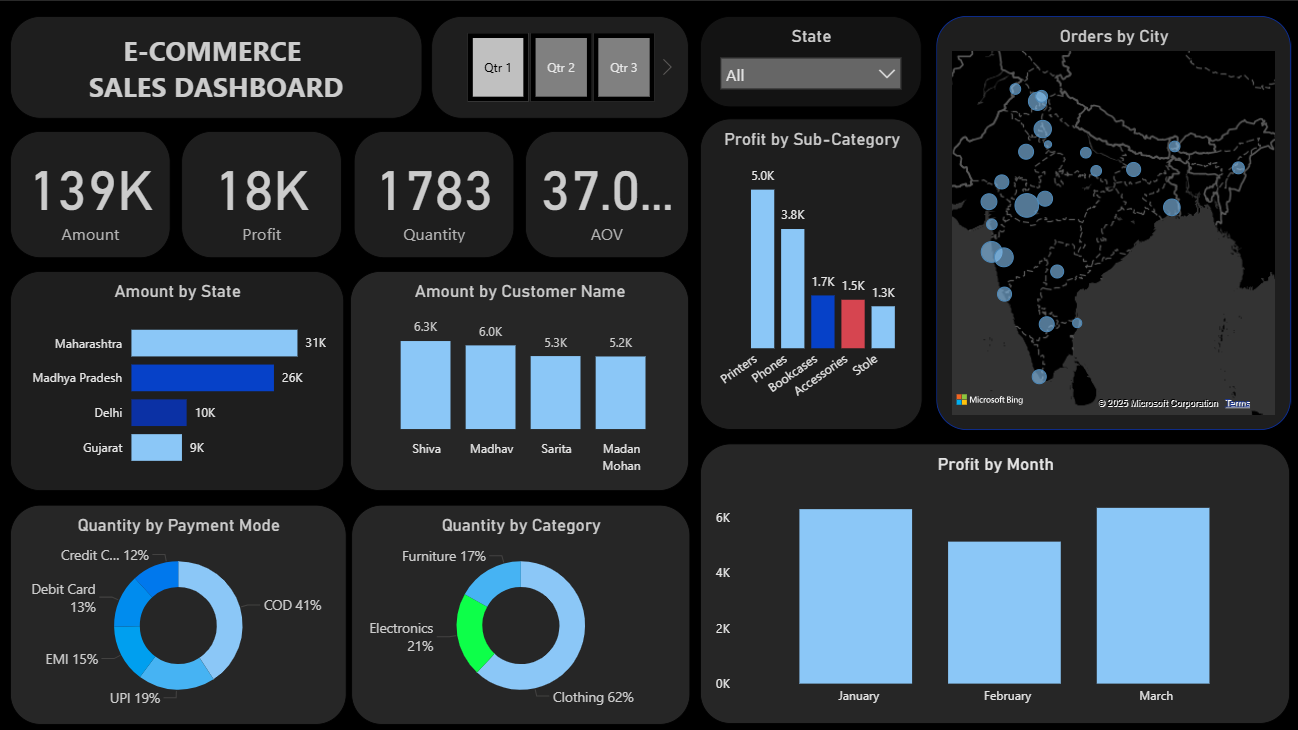

The dashboard page shown, as its layout file describes it:
{"tool":"powerbi","page":{"name":"Page 1","canvas":[1280,720],"ordinal":0},"visuals":[{"type":"textbox","box":[9.9,14.2,404.7,100.8],"z":0},{"type":"columnChart","fields":{"Y":["Details.Profit"],"Category":["Orders.Order Date.Variation.Date Hierarchy.Month"]},"box":[687.3,434.6,579.4,275.5],"z":1000},{"type":"columnChart","fields":{"Category":["Details.Sub-Category"],"Y":["Details.Profit"]},"box":[687.3,115,218.7,305.3],"z":2000},{"type":"donutChart","fields":{"Category":["Details.Category"],"Y":["Details.Quantity"]},"box":[344.8,494.5,332.5,216],"z":3000},{"type":"donutChart","fields":{"Y":["Details.Quantity"],"Category":["Details.PaymentMode"]},"box":[9.8,494.5,330.1,216],"z":4000},{"type":"card","fields":{"Values":["Details.Amount"]},"box":[9.9,127.8,157.6,125],"z":5000},{"type":"card","fields":{"Values":["Details.Profit"]},"box":[178.5,127.8,157.6,125],"z":6000},{"type":"card","fields":{"Values":["Details.Quantity"]},"box":[347,127.8,157.6,125],"z":7000},{"type":"card","fields":{"Values":["Details.AOV"]},"box":[515.5,127.8,160.5,125],"z":8000},{"type":"barChart","fields":{"Category":["Orders.State"],"Y":["Details.Amount"]},"box":[9.8,265,327.6,216],"z":9000},{"type":"columnChart","fields":{"Category":["Orders.Customer Name"],"Y":["Details.Amount"]},"box":[343.6,265,332.5,216],"z":10000},{"type":"slicer","title":"Quarter","fields":{"Values":["Orders.Order Date.Variation.Date Hierarchy.Quarter"]},"box":[423.2,14.2,252.8,100.8],"z":11000},{"type":"slicer","title":"State","fields":{"Values":["Orders.State"]},"box":[687.3,14.2,217.3,89.5],"z":12000},{"type":"map","title":"Orders by City","fields":{"Category":["Orders.City"],"Size":["Orders.Order ID"]},"box":[918.8,14.2,347.9,406.2],"z":14000}]}

Visuals, with their boxes in screenshot pixels (x1, y1, x2, y2), scaled from the page's 1280x720 canvas onto the 1298x730 screenshot:
textbox: <bbox>10, 14, 420, 117</bbox>
columnChart - Details.Profit x Orders.Order Date.Variation.Date Hierarchy.Month: <bbox>697, 441, 1285, 720</bbox>
columnChart - Details.Sub-Category x Details.Profit: <bbox>697, 117, 919, 426</bbox>
donutChart - Details.Category x Details.Quantity: <bbox>350, 501, 687, 720</bbox>
donutChart - Details.Quantity x Details.PaymentMode: <bbox>10, 501, 345, 720</bbox>
card - Details.Amount: <bbox>10, 130, 170, 256</bbox>
card - Details.Profit: <bbox>181, 130, 341, 256</bbox>
card - Details.Quantity: <bbox>352, 130, 512, 256</bbox>
card - Details.AOV: <bbox>523, 130, 686, 256</bbox>
barChart - Orders.State x Details.Amount: <bbox>10, 269, 342, 488</bbox>
columnChart - Orders.Customer Name x Details.Amount: <bbox>348, 269, 686, 488</bbox>
"Quarter" slicer: <bbox>429, 14, 686, 117</bbox>
"State" slicer: <bbox>697, 14, 917, 105</bbox>
"Orders by City" map: <bbox>932, 14, 1285, 426</bbox>
